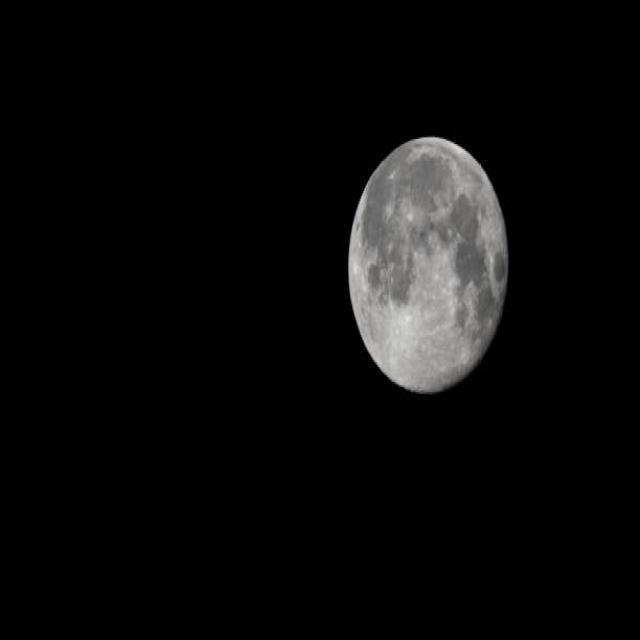moon: (348, 137, 508, 396)
